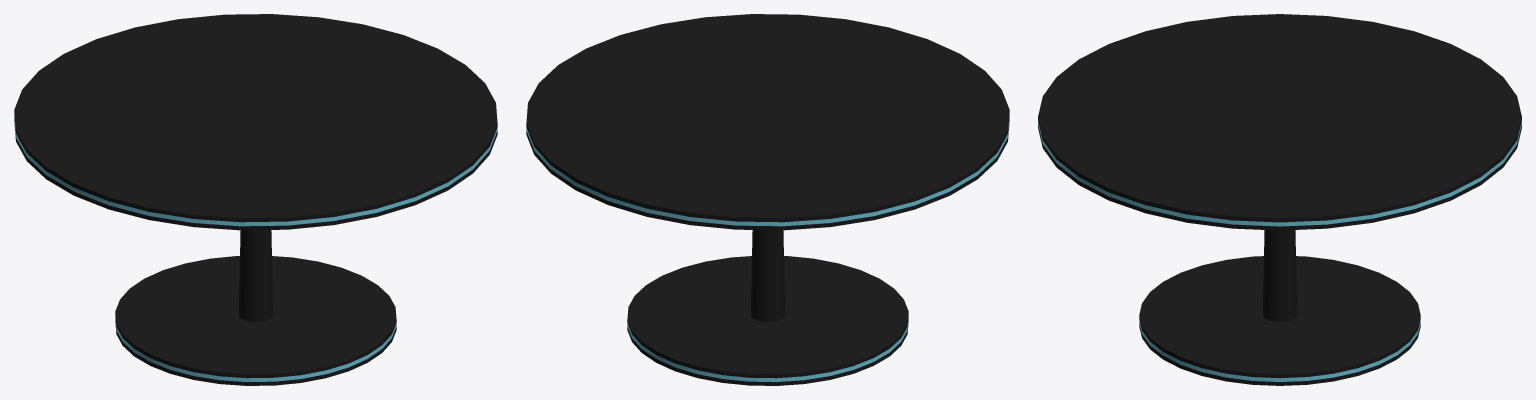
File: table_basse.fbx
3 renders of one model, left to right at view 1: azimuth 30°, elevation 25°; view 2: azimuth 150°, elevation 25°; view 3: azimuth 270°, elevation 25°, orthographic.
Visible parts, largest first — view 1: table_basse; view 2: table_basse; view 3: table_basse.
Boxes of the visible parts, x1,y1,x2,y2 form: table_basse: (14, 14, 497, 385); table_basse: (526, 14, 1009, 385); table_basse: (1038, 14, 1521, 385).
Bounding box in the file's own units: 117 × 55.91 × 117.
